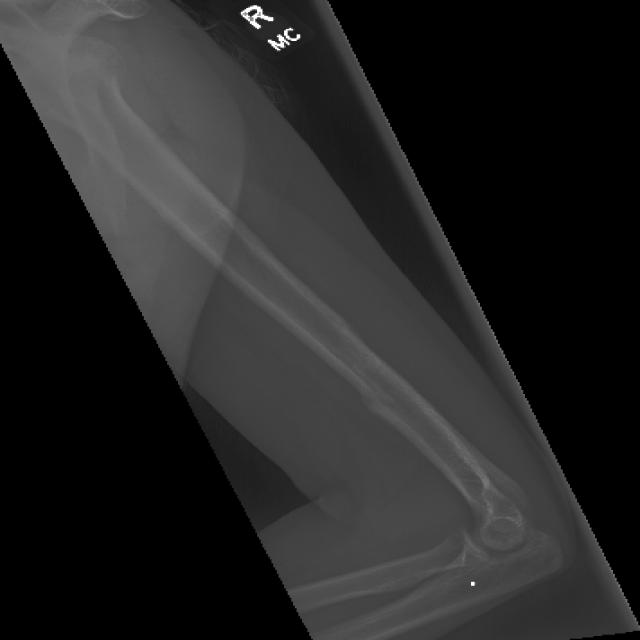humerus fracture: (299, 295, 505, 509)
